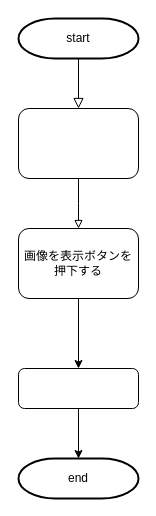
Some shapes in this 156 by 516 pixel diagram are drawn without their labels. Here are the shapes that lost their labels. From the top down, the centre of each, then its label:
(78,143): 表示させる 画像データのファイル名を取得する
(78,388): 画像を表示する
